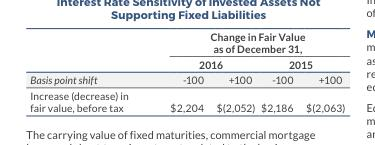table: (29, 29, 344, 113)
table column: (29, 29, 148, 113), (148, 29, 209, 113), (209, 29, 257, 113), (298, 29, 344, 113), (257, 29, 298, 113)
table column header: (29, 29, 344, 87)
table row: (29, 29, 344, 55), (29, 87, 344, 113), (29, 55, 344, 71), (29, 71, 344, 87)
table spanning cell: (29, 29, 148, 87), (148, 29, 344, 55), (148, 55, 257, 71), (257, 55, 344, 71)
